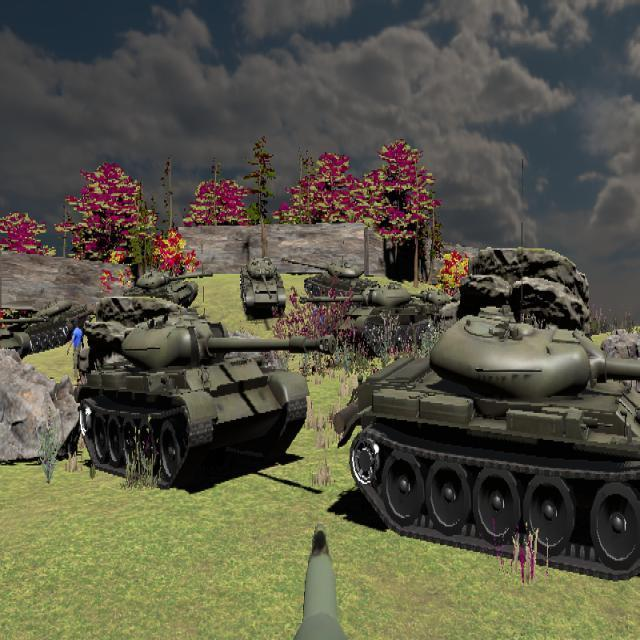Human: (67, 316, 84, 387)
Tank: (335, 309, 640, 567), (77, 309, 334, 488), (298, 283, 434, 357), (3, 299, 90, 353), (119, 268, 213, 314), (284, 258, 379, 300), (240, 257, 287, 317)
